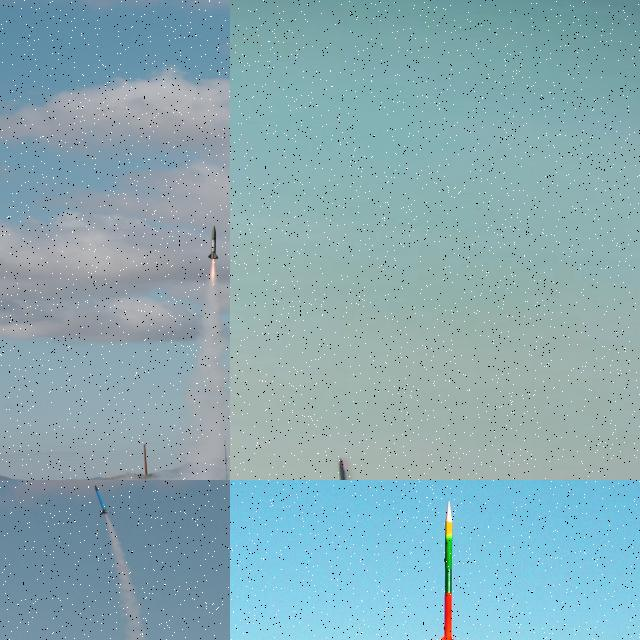Rocket: (423, 499, 468, 640), (95, 485, 112, 515), (334, 458, 356, 480), (208, 225, 219, 260)
